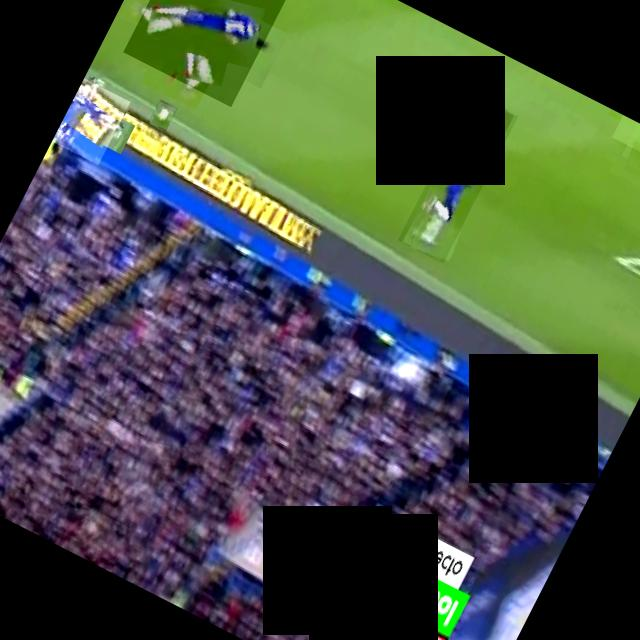ball: (148, 100, 178, 132)
soccer-player: (398, 94, 518, 264), (123, 0, 286, 107), (51, 78, 130, 165), (611, 115, 640, 155)
